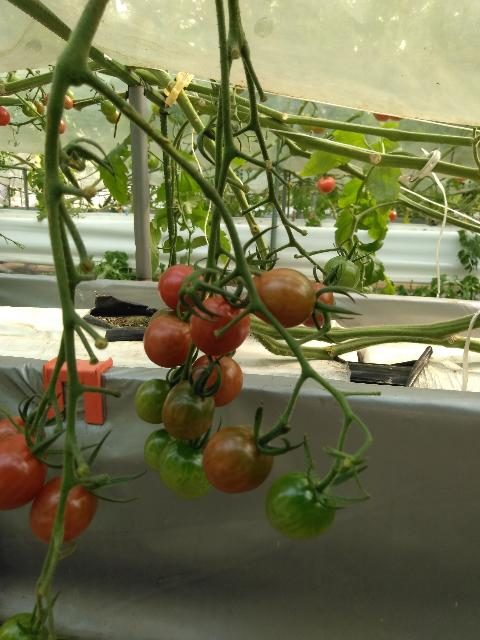l_fully_ripened: (29, 473, 98, 544), (0, 434, 48, 511), (189, 296, 249, 357), (157, 264, 206, 311), (0, 415, 46, 445), (0, 106, 10, 126)
l_green: (266, 471, 336, 539), (158, 438, 207, 495), (135, 377, 176, 424), (144, 428, 178, 472), (322, 256, 360, 293), (0, 612, 46, 640), (101, 100, 116, 117), (22, 101, 37, 117)
l_half_ripened: (202, 425, 274, 493), (249, 268, 316, 329), (162, 378, 216, 440), (143, 315, 196, 368), (191, 354, 243, 407), (302, 282, 334, 328), (29, 99, 44, 116), (105, 109, 121, 124), (64, 95, 74, 110)
